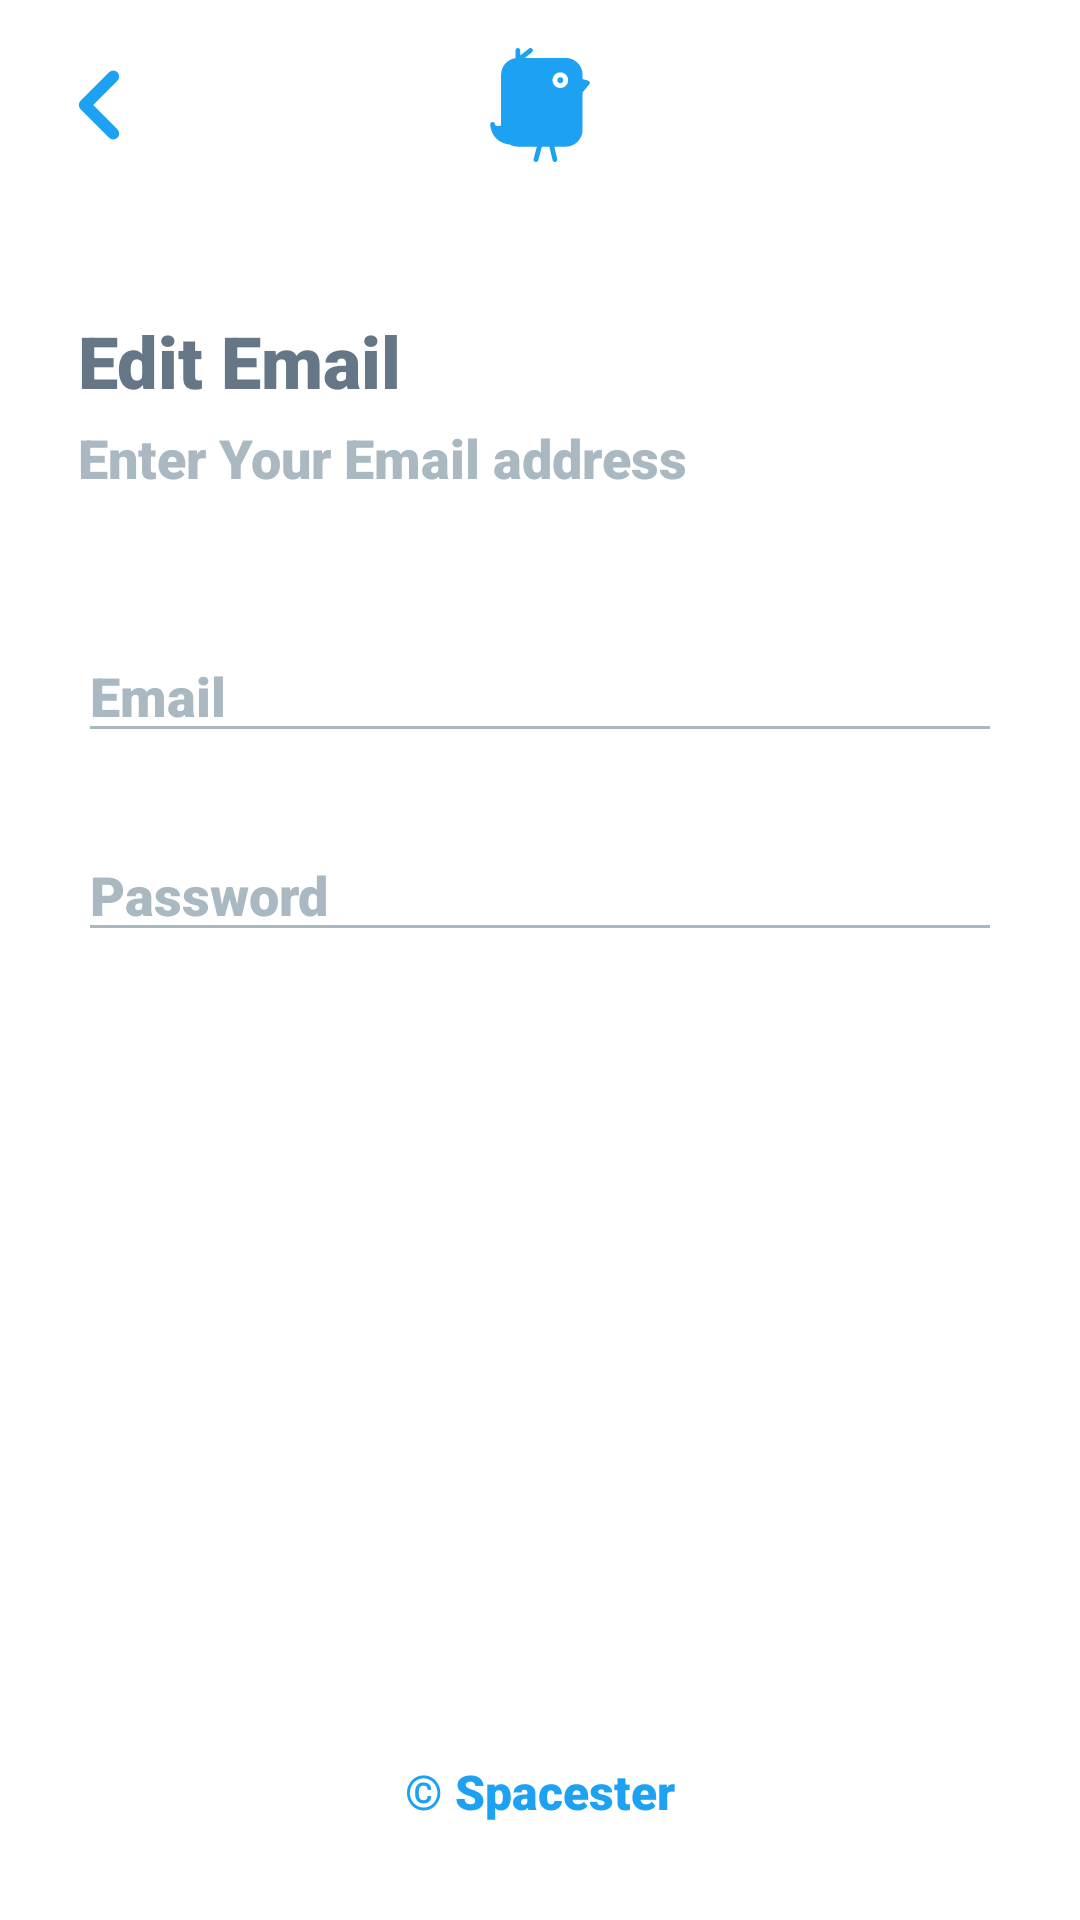

Icons on this 1080px×1920px Android screen, each with its box as (x1, y1, x2, y2):
back: (79, 70, 120, 140)
